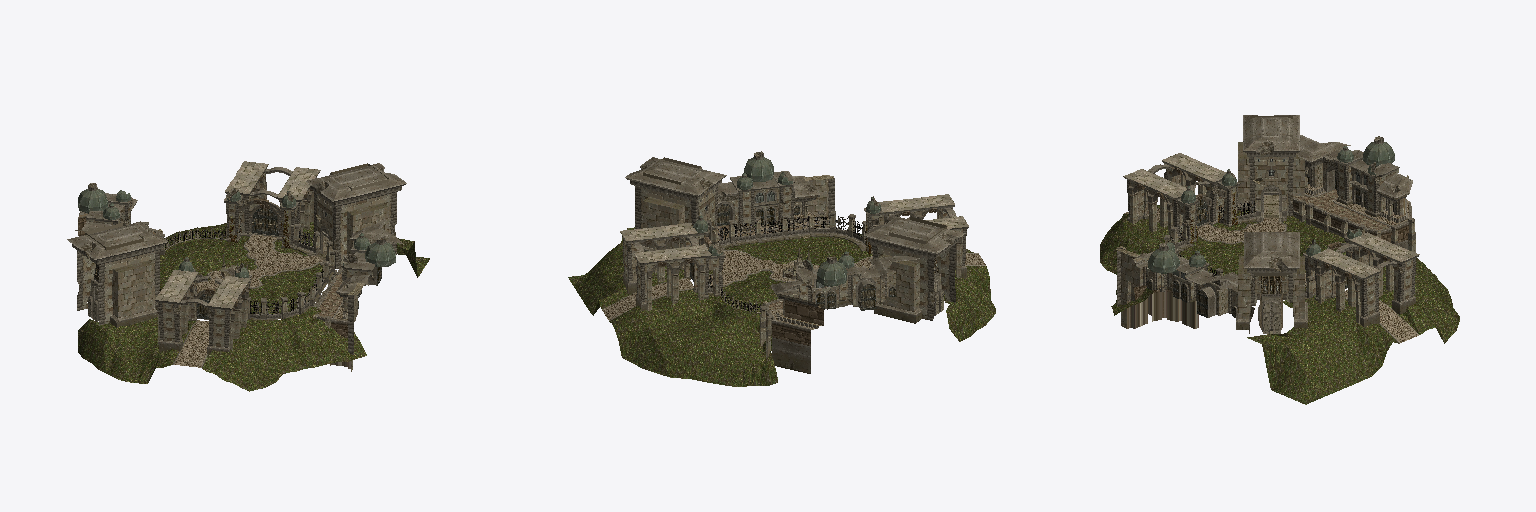
3 views of the same model, side by side, from view 1: azimuth 30°, elevation 25°; view 2: azimuth 150°, elevation 25°; view 3: azimuth 270°, elevation 25° (orthographic).
Parts seen in each view (by area): view 1: pvp_lordaeron_arena_000_2, pvp_lordaeron_arena_000_1, pvp_lordaeron_arena_000_6, pvp_lordaeron_arena_000_14, pvp_lordaeron_arena_000_5, pvp_lordaeron_arena_000_10, pvp_lordaeron_arena_000_12, pvp_lordaeron_arena_000_4, pvp_lordaeron_arena_000_8, pvp_lordaeron_arena_000_0, pvp_lordaeron_arena_000_7, pvp_lordaeron_arena_000_9 (+3 smaller); view 2: pvp_lordaeron_arena_000_2, pvp_lordaeron_arena_000_1, pvp_lordaeron_arena_000_6, pvp_lordaeron_arena_000_10, pvp_lordaeron_arena_000_14, pvp_lordaeron_arena_000_8, pvp_lordaeron_arena_000_5, pvp_lordaeron_arena_000_4, pvp_lordaeron_arena_000_12, pvp_lordaeron_arena_000_3, pvp_lordaeron_arena_000_0, pvp_lordaeron_arena_000_7 (+2 smaller); view 3: pvp_lordaeron_arena_000_2, pvp_lordaeron_arena_000_1, pvp_lordaeron_arena_000_6, pvp_lordaeron_arena_000_8, pvp_lordaeron_arena_000_4, pvp_lordaeron_arena_000_10, pvp_lordaeron_arena_000_14, pvp_lordaeron_arena_000_12, pvp_lordaeron_arena_000_5, pvp_lordaeron_arena_000_0, pvp_lordaeron_arena_000_7, pvp_lordaeron_arena_000_3 (+2 smaller).
Boxes of the visible parts, box(x1,y1,x2,y2) form: pvp_lordaeron_arena_000_2: box(78, 222, 429, 391); pvp_lordaeron_arena_000_1: box(70, 166, 405, 367); pvp_lordaeron_arena_000_6: box(67, 163, 406, 353); pvp_lordaeron_arena_000_14: box(155, 161, 320, 308); pvp_lordaeron_arena_000_5: box(174, 234, 347, 367); pvp_lordaeron_arena_000_10: box(91, 207, 388, 321); pvp_lordaeron_arena_000_12: box(78, 189, 395, 277); pvp_lordaeron_arena_000_4: box(148, 191, 352, 371); pvp_lordaeron_arena_000_8: box(78, 163, 388, 368); pvp_lordaeron_arena_000_0: box(156, 171, 347, 321); pvp_lordaeron_arena_000_7: box(77, 167, 395, 322); pvp_lordaeron_arena_000_9: box(197, 208, 381, 318); pvp_lordaeron_arena_000_2: box(568, 227, 995, 386); pvp_lordaeron_arena_000_1: box(602, 154, 985, 328); pvp_lordaeron_arena_000_6: box(623, 157, 966, 373); pvp_lordaeron_arena_000_10: box(643, 179, 941, 311); pvp_lordaeron_arena_000_14: box(620, 194, 968, 262); pvp_lordaeron_arena_000_8: box(633, 157, 958, 325); pvp_lordaeron_arena_000_5: box(602, 212, 985, 328); pvp_lordaeron_arena_000_4: box(647, 195, 960, 358); pvp_lordaeron_arena_000_12: box(693, 157, 880, 285); pvp_lordaeron_arena_000_3: box(712, 211, 865, 345); pvp_lordaeron_arena_000_0: box(640, 201, 961, 337); pvp_lordaeron_arena_000_7: box(627, 151, 959, 305); pvp_lordaeron_arena_000_2: box(1100, 205, 1459, 404); pvp_lordaeron_arena_000_1: box(1117, 138, 1418, 343); pvp_lordaeron_arena_000_6: box(1127, 115, 1415, 329); pvp_lordaeron_arena_000_8: box(1127, 116, 1409, 328); pvp_lordaeron_arena_000_4: box(1121, 158, 1415, 328); pvp_lordaeron_arena_000_10: box(1121, 159, 1322, 318); pvp_lordaeron_arena_000_14: box(1124, 153, 1419, 277); pvp_lordaeron_arena_000_12: box(1148, 142, 1394, 273); pvp_lordaeron_arena_000_5: box(1125, 184, 1418, 342); pvp_lordaeron_arena_000_0: box(1127, 166, 1415, 300); pvp_lordaeron_arena_000_7: box(1116, 136, 1404, 323); pvp_lordaeron_arena_000_3: box(1128, 197, 1414, 299).
Bounding box in the file's own units: 95.48 × 30.63 × 79.59.
Materials: 40 (20 with a texture image).